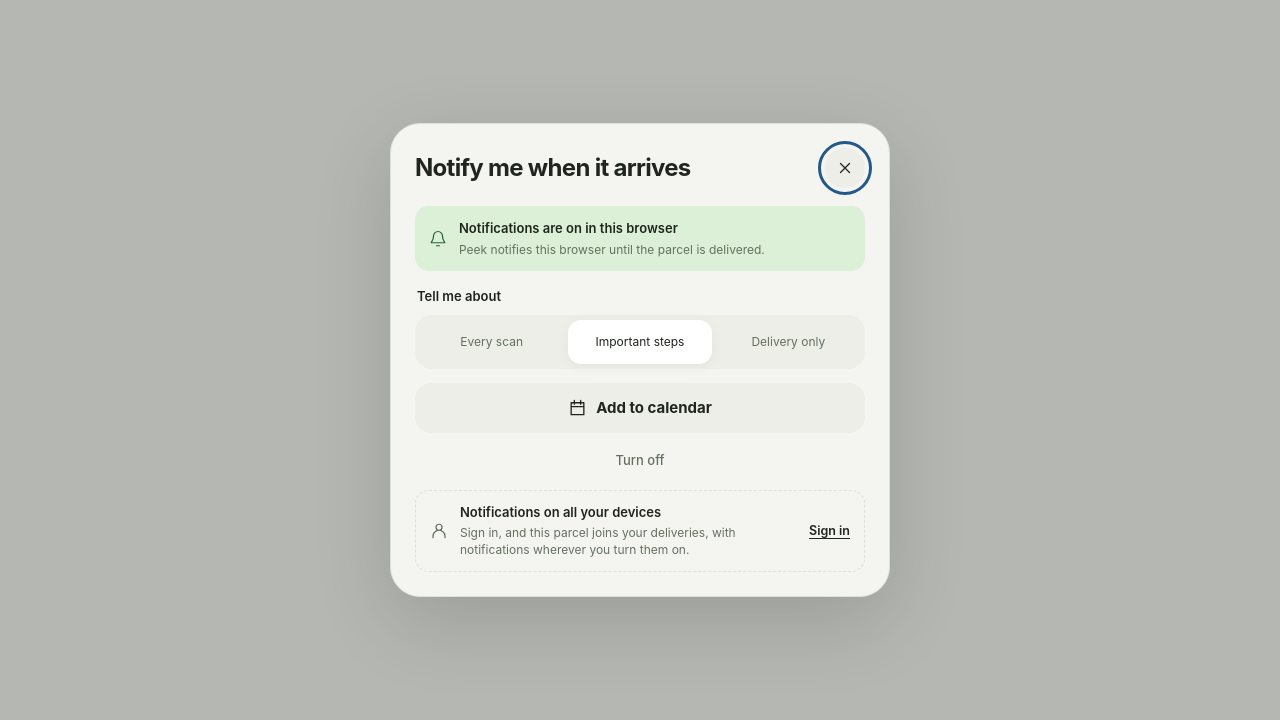
Test: the Notify me sheet › keeps the alert on, and says so, when it cannot be turned off
Click the button "Turn off".
click(640, 461)  # box [415,439,865,483]
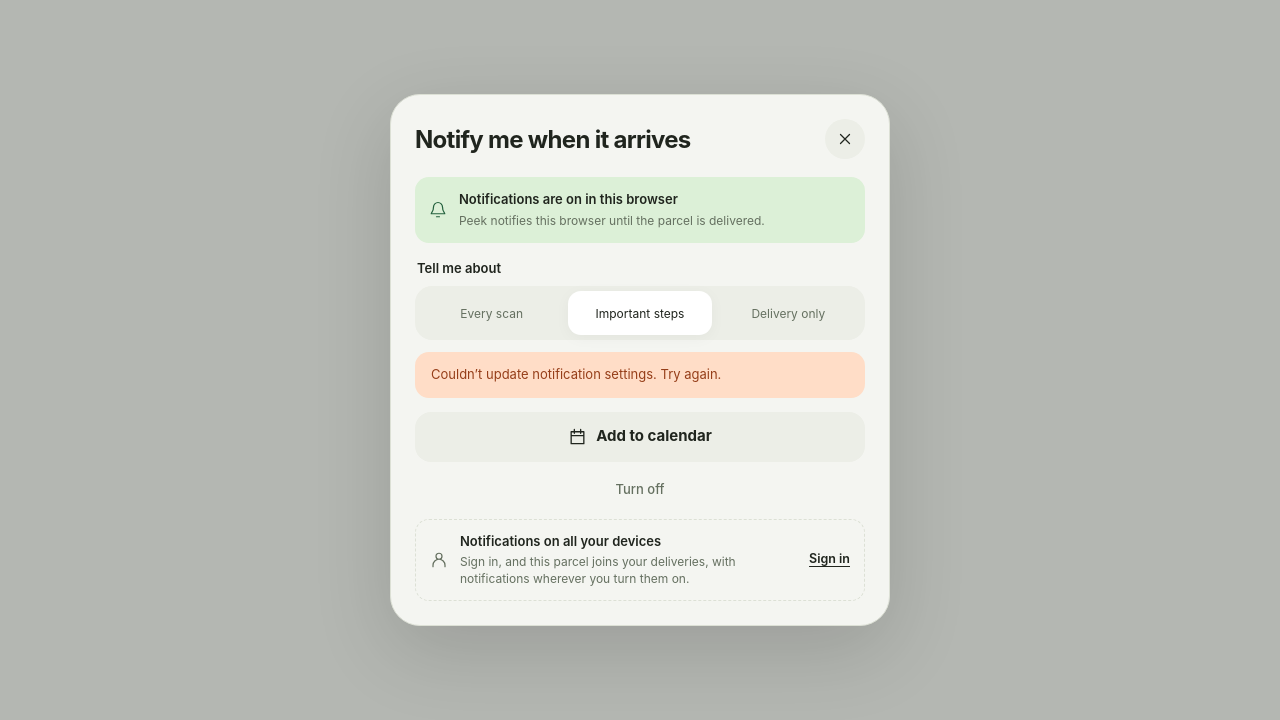
Expected: the text "Notifications are on in this browser" is shown, [459,191,678,207]
Expected: the message reads "Couldn’t update notification settings. Try again.", [431,366,721,382]
